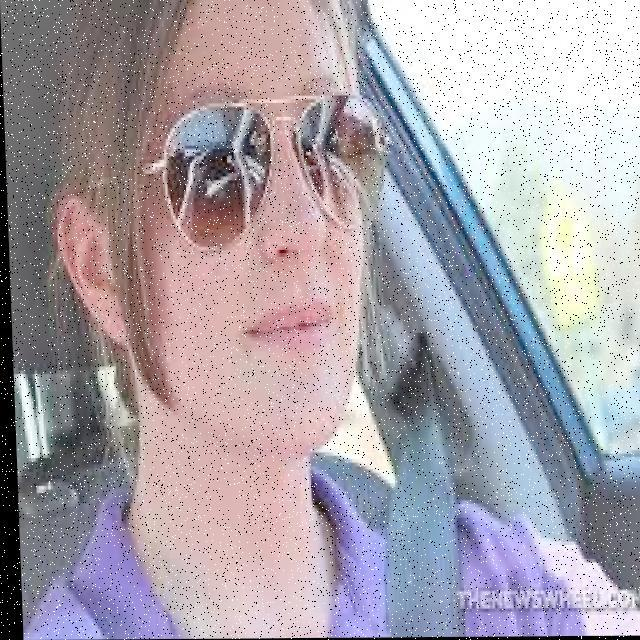seatbelt: (132, 442, 544, 638)
